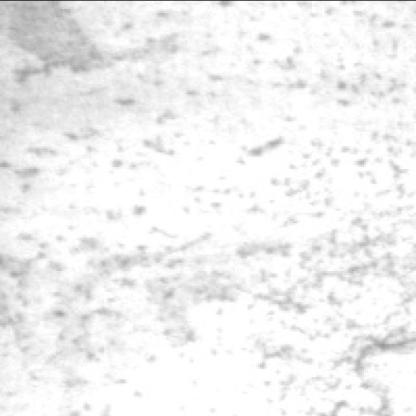pitted_surface: (12, 8, 412, 408)
